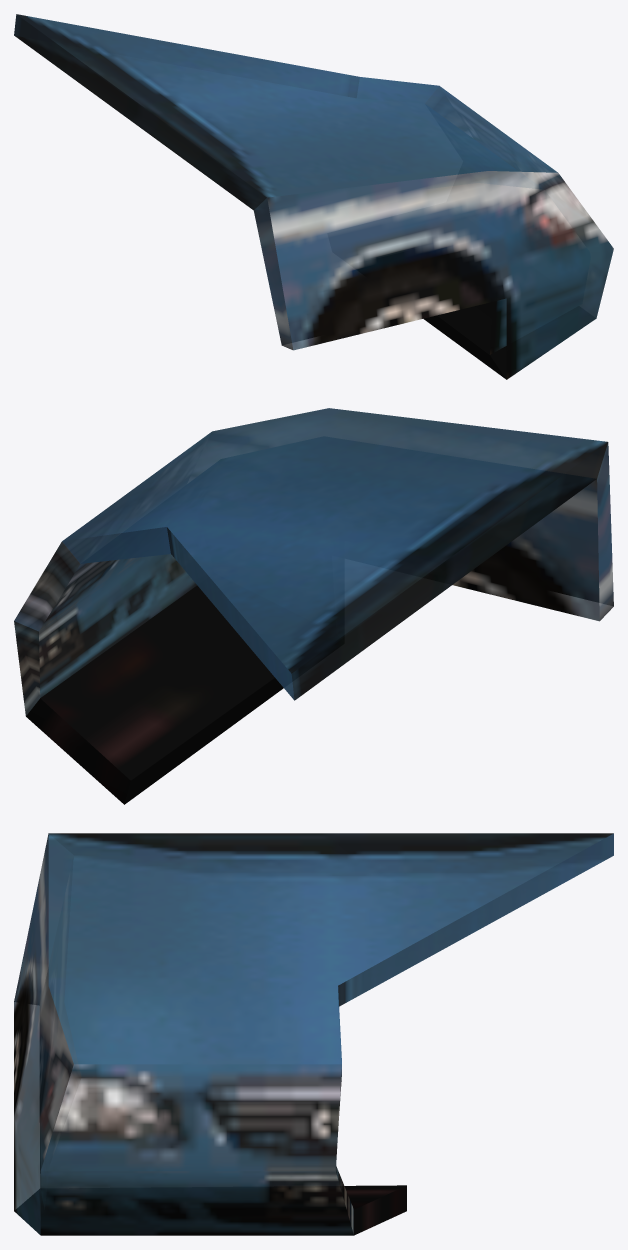
The model's file is Shared - Ground Vehicles - Police Car - CVPoliceCar_x02.glb.
3 renders of one model, top to bottom at view 1: azimuth 30°, elevation 25°; view 2: azimuth 150°, elevation 25°; view 3: azimuth 270°, elevation 25°, orthographic. The views are drawn at different scales.
Visible parts, largest first — view 1: CVPOLICECAR_X02; view 2: CVPOLICECAR_X02; view 3: CVPOLICECAR_X02.
Boxes of the visible parts, left/top/right/bottom form: CVPOLICECAR_X02: left=14, top=14, right=613, bottom=379; CVPOLICECAR_X02: left=14, top=408, right=613, bottom=804; CVPOLICECAR_X02: left=14, top=833, right=613, bottom=1235.
Bounding box in the file's own units: 5.86 × 3.66 × 7.82.
Materials: 1 (1 with a texture image).
